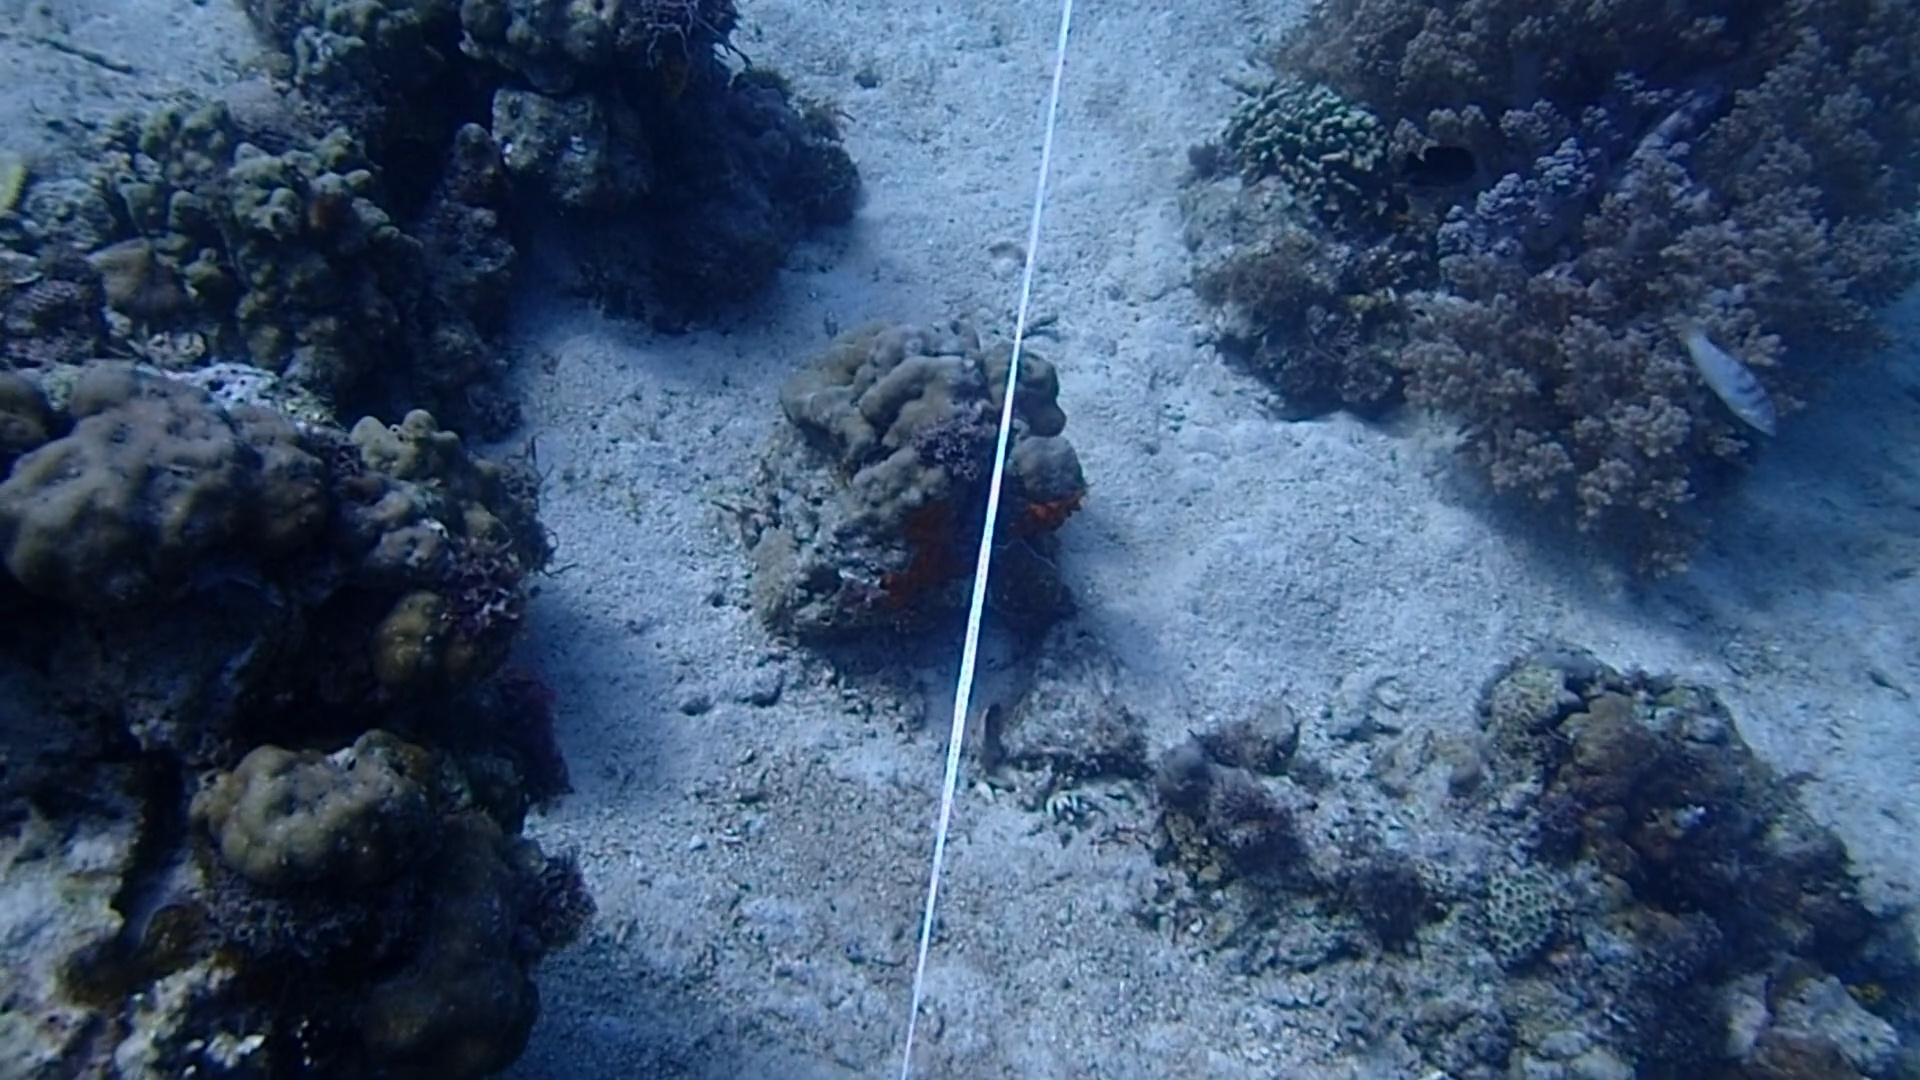Dark Fish: (1389, 136, 1489, 196)
Light Fish w Back Stripes: (1672, 322, 1789, 439)
